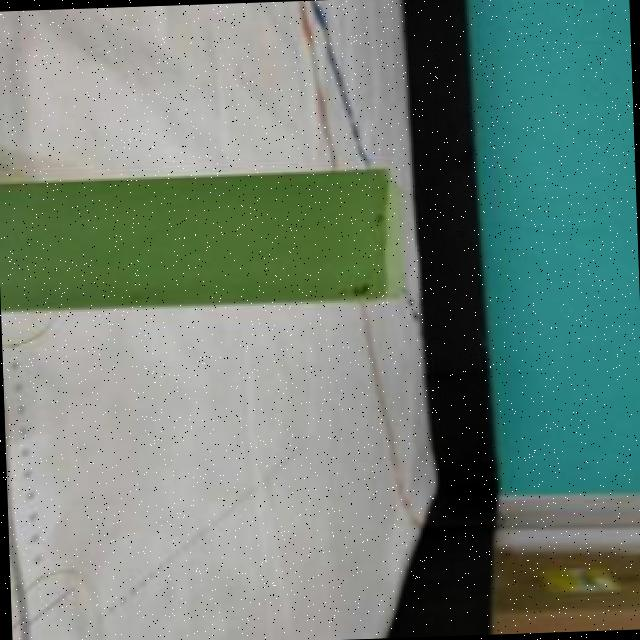greenbox: (0, 166, 407, 312)
